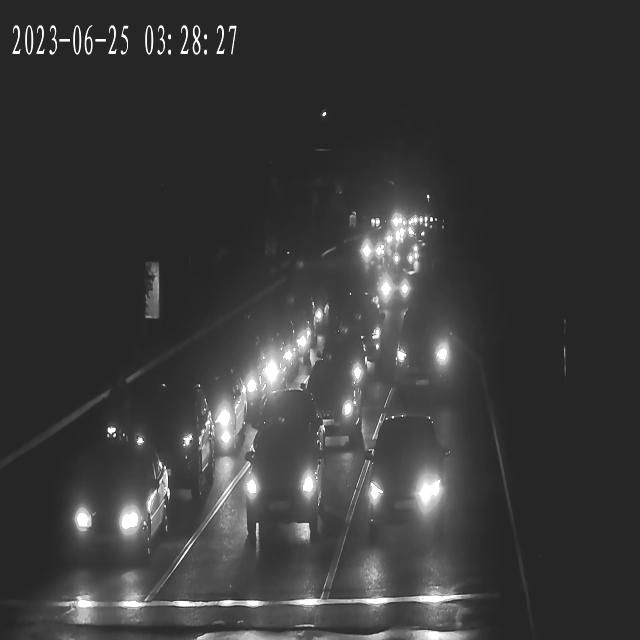Car: (59, 441, 170, 566), (101, 384, 206, 498), (361, 423, 452, 538), (244, 418, 325, 527), (172, 366, 256, 461), (226, 316, 303, 390), (304, 363, 366, 447), (390, 317, 458, 388), (207, 352, 281, 416), (368, 270, 410, 303), (358, 238, 388, 262), (389, 246, 418, 270), (394, 247, 421, 272), (382, 230, 403, 248)
